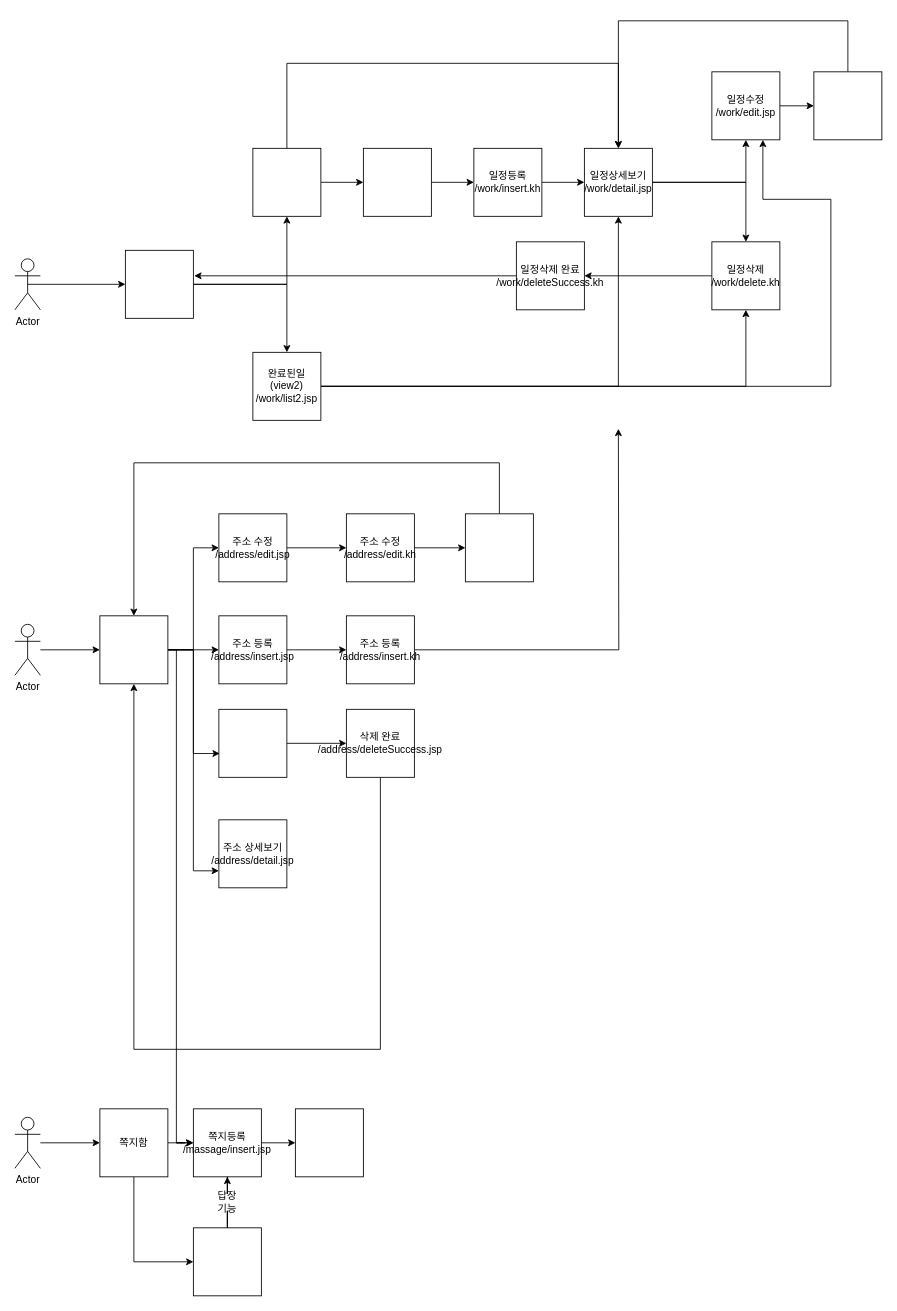
The diagram is 897 pixels wide and 1311 high, and some of its shapes have lost their labels. Each missing label, with the centre of its shape:
수정 완료 /address/editSuccess.jsp: the point at 499,547
일정등록 /work/insert.jsp: the point at 397,181
일정수정 /work/edit.kh: the point at 847,105
주소 삭제 /address/delete.kh: the point at 252,742
쪽지등록 /massage/insert.kh: the point at 329,1142
쪽지상세보기 /massage/detail.jsp: the point at 227,1261
첫화면 직원 주소록 /address/list.jsp: the point at 133,649
첫화면 해야할 일/ 완료된 일: the point at 159,283
해야할 일(view1) /work/list1.jsp: the point at 286,181
